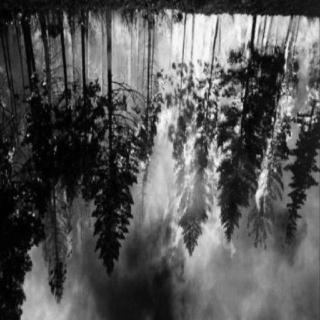Fire: (6, 9, 317, 276)
